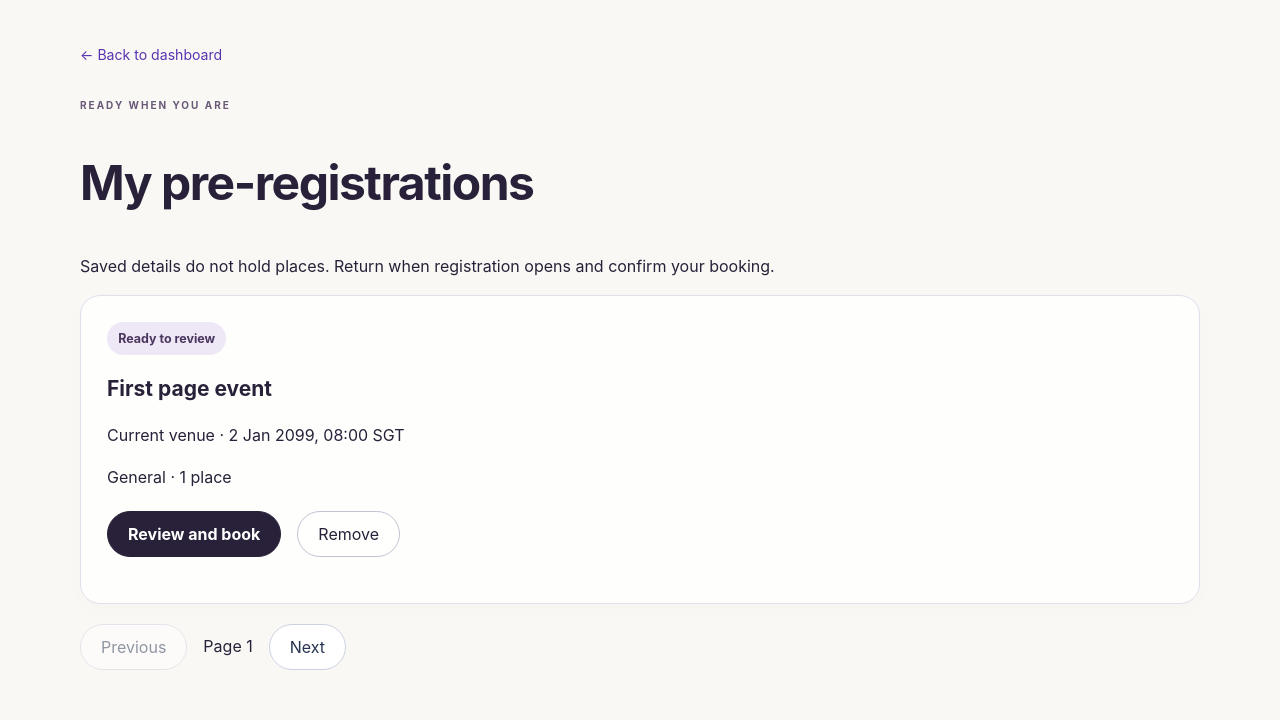
Test: returns to a valid page after removing the last pre-registration on the final page
The width and height of the screenshot is (1280, 720).
expect the heading "First page event" is shown: met, box [107, 376, 272, 401]
Click the button "Next": (307, 647) [269, 624, 346, 670]
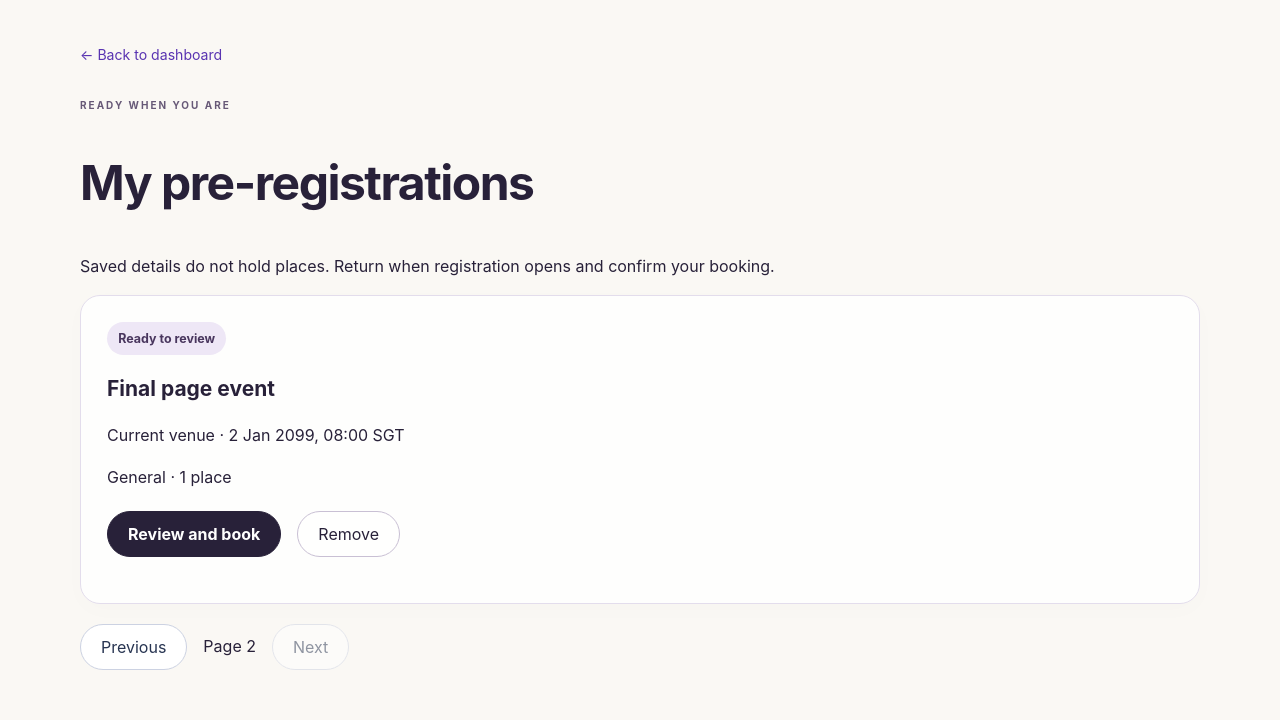
expect the heading "Final page event" is shown: met, box [107, 376, 275, 401]
Click the button "Remove": (349, 534) [297, 511, 400, 557]
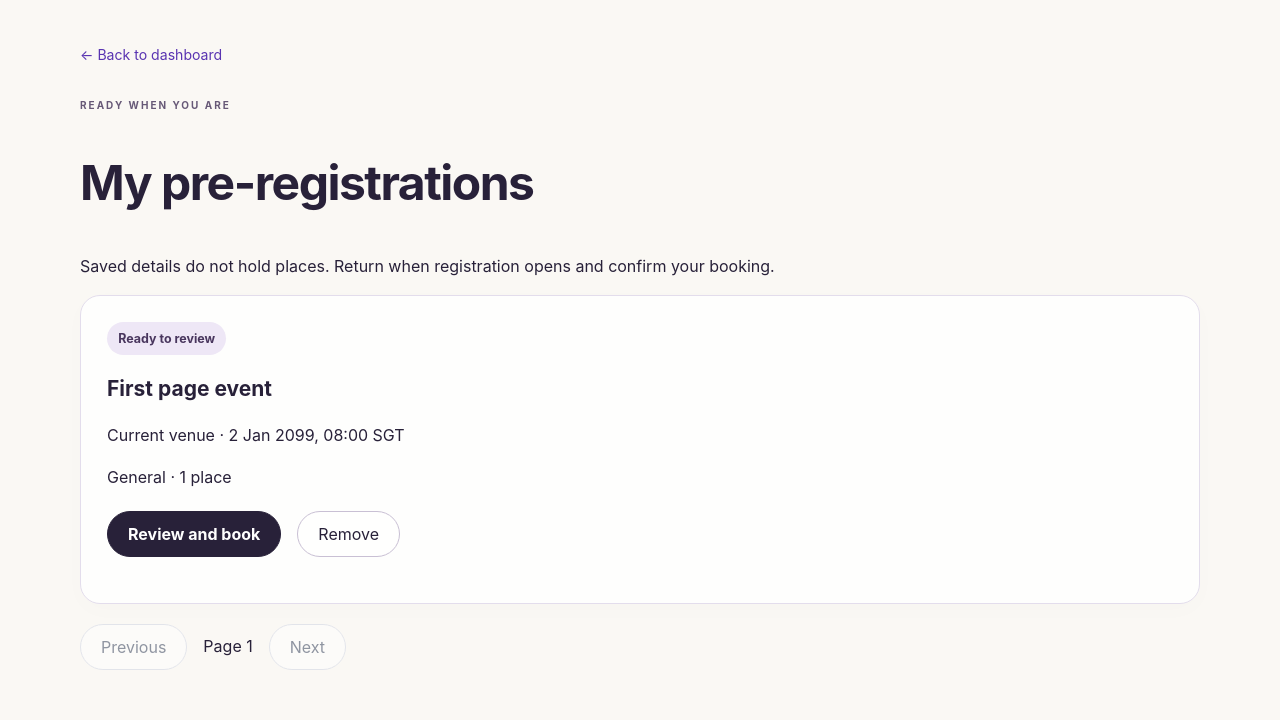
expect the heading "First page event" is shown: met, box [107, 376, 272, 401]
expect the text "Page 1" is shown: met, box [203, 634, 253, 659]
